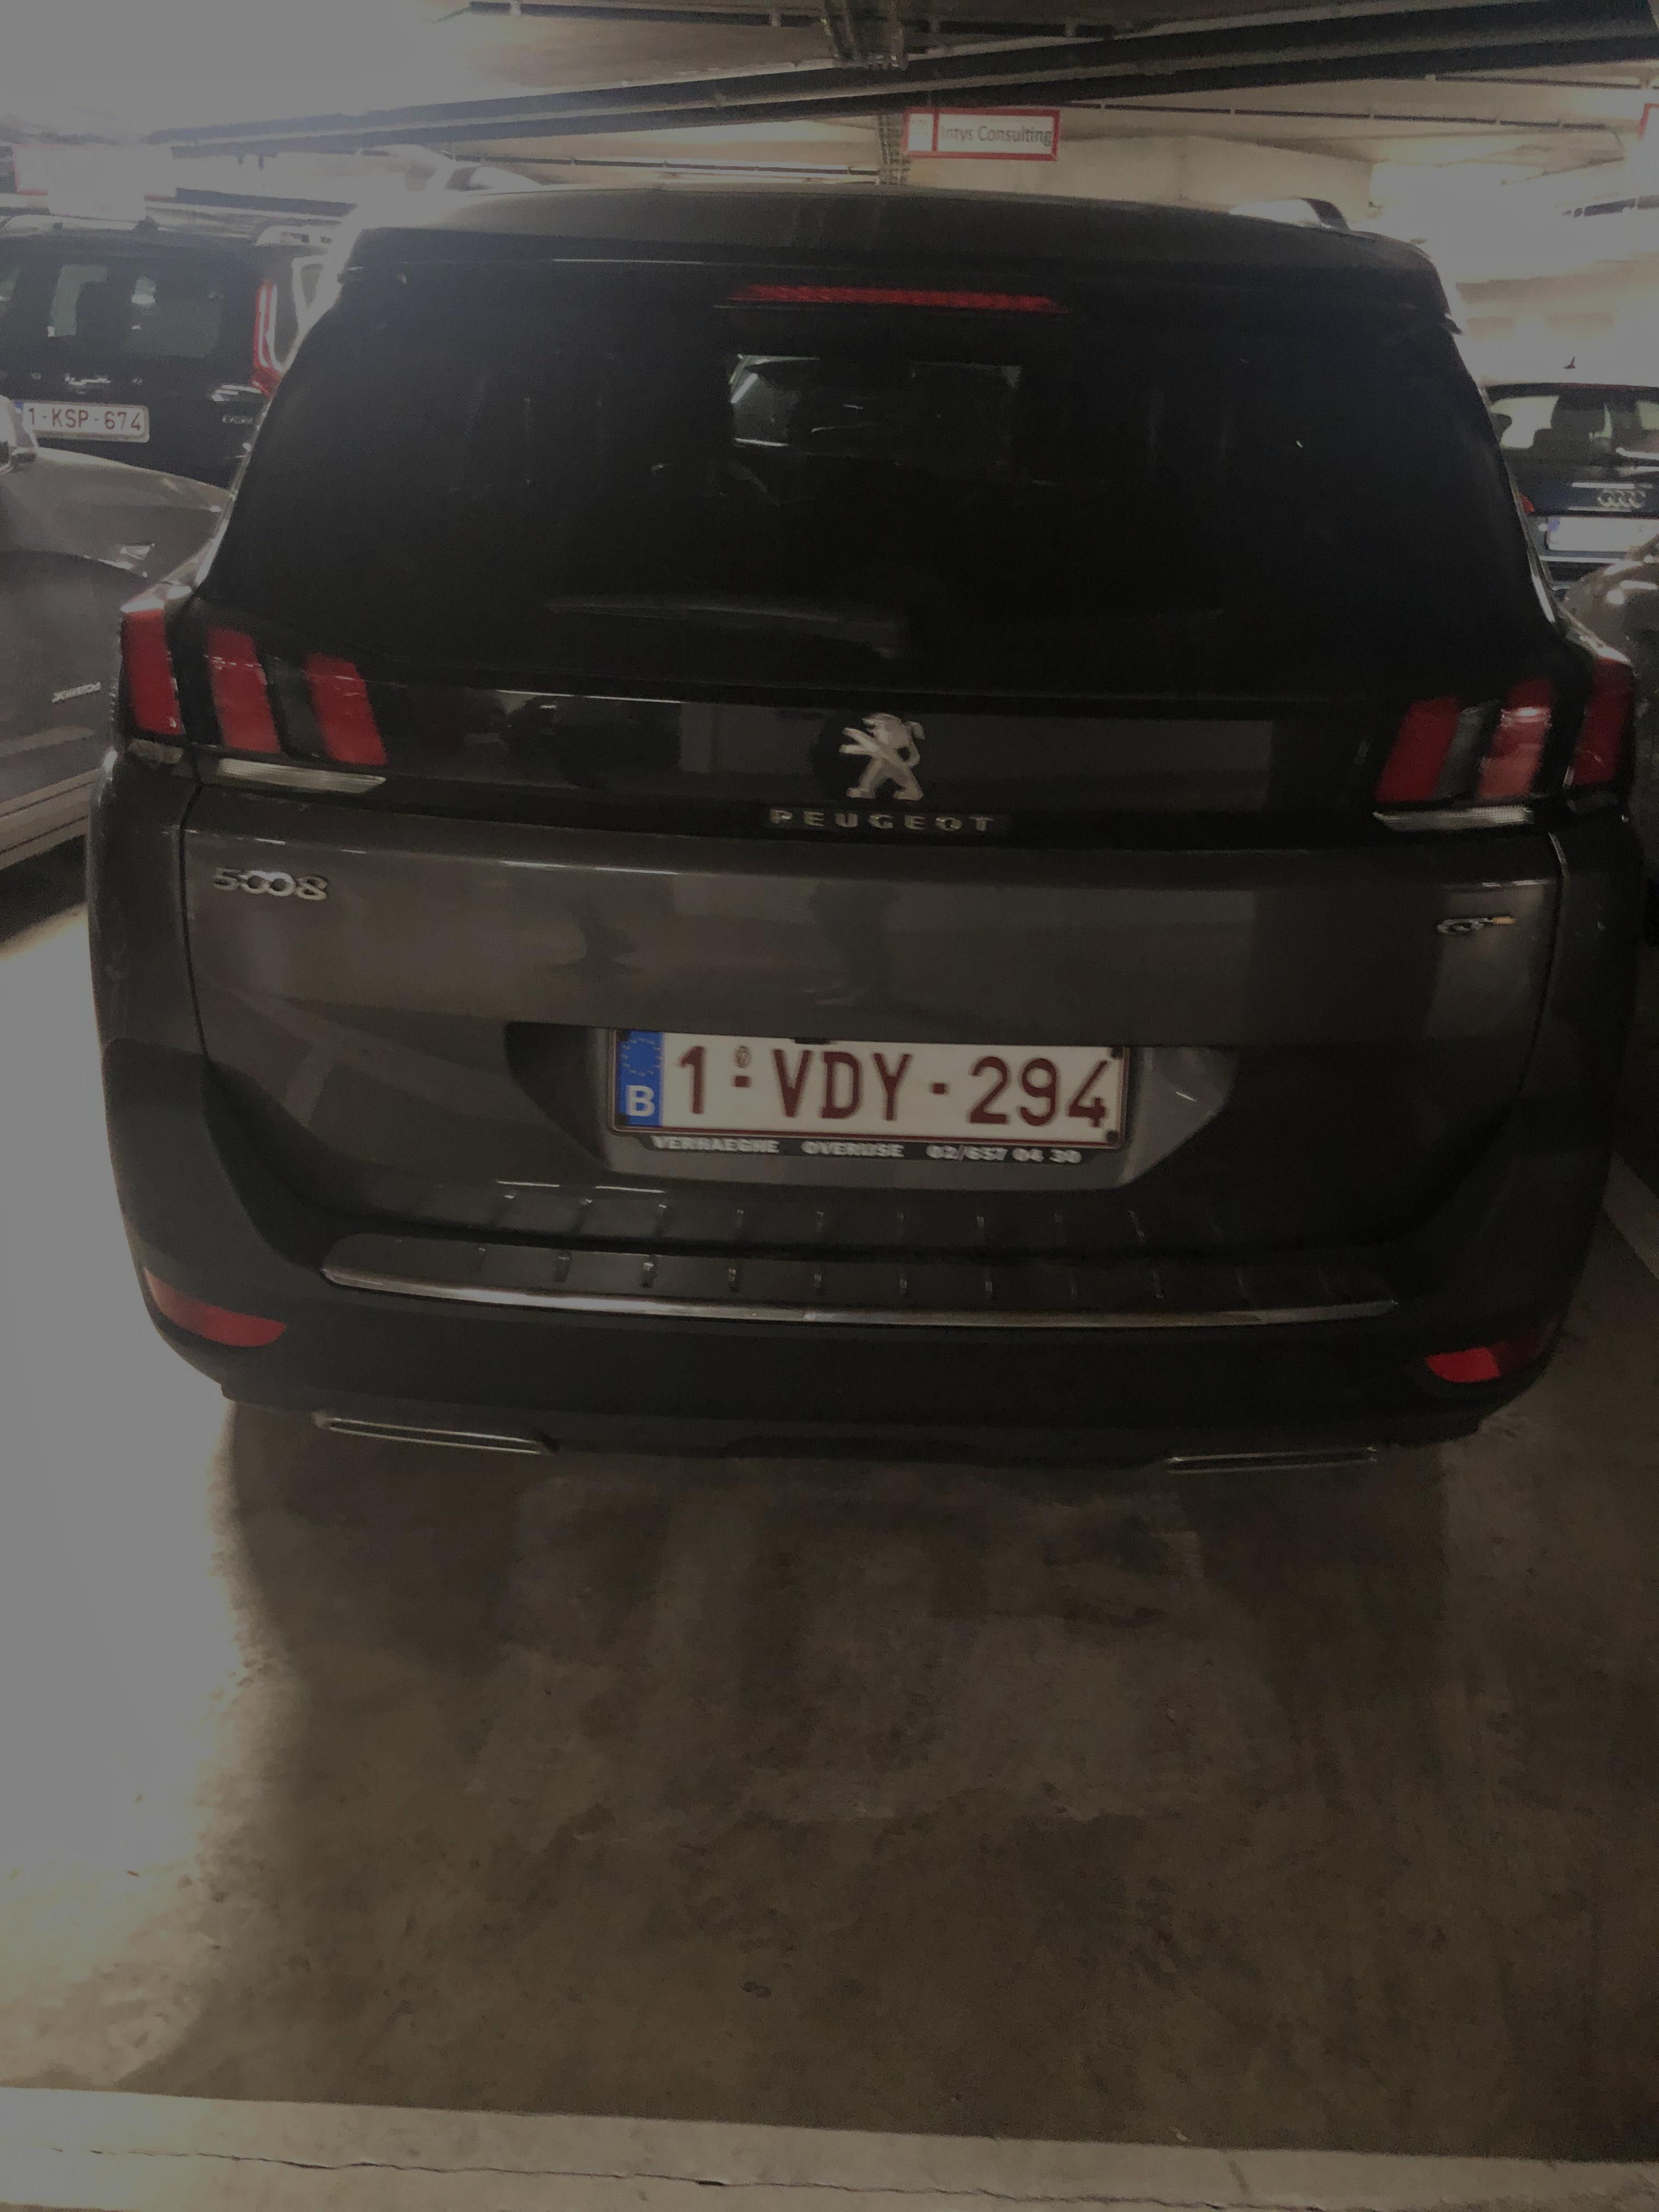plate: (592, 1017, 1155, 1155)
